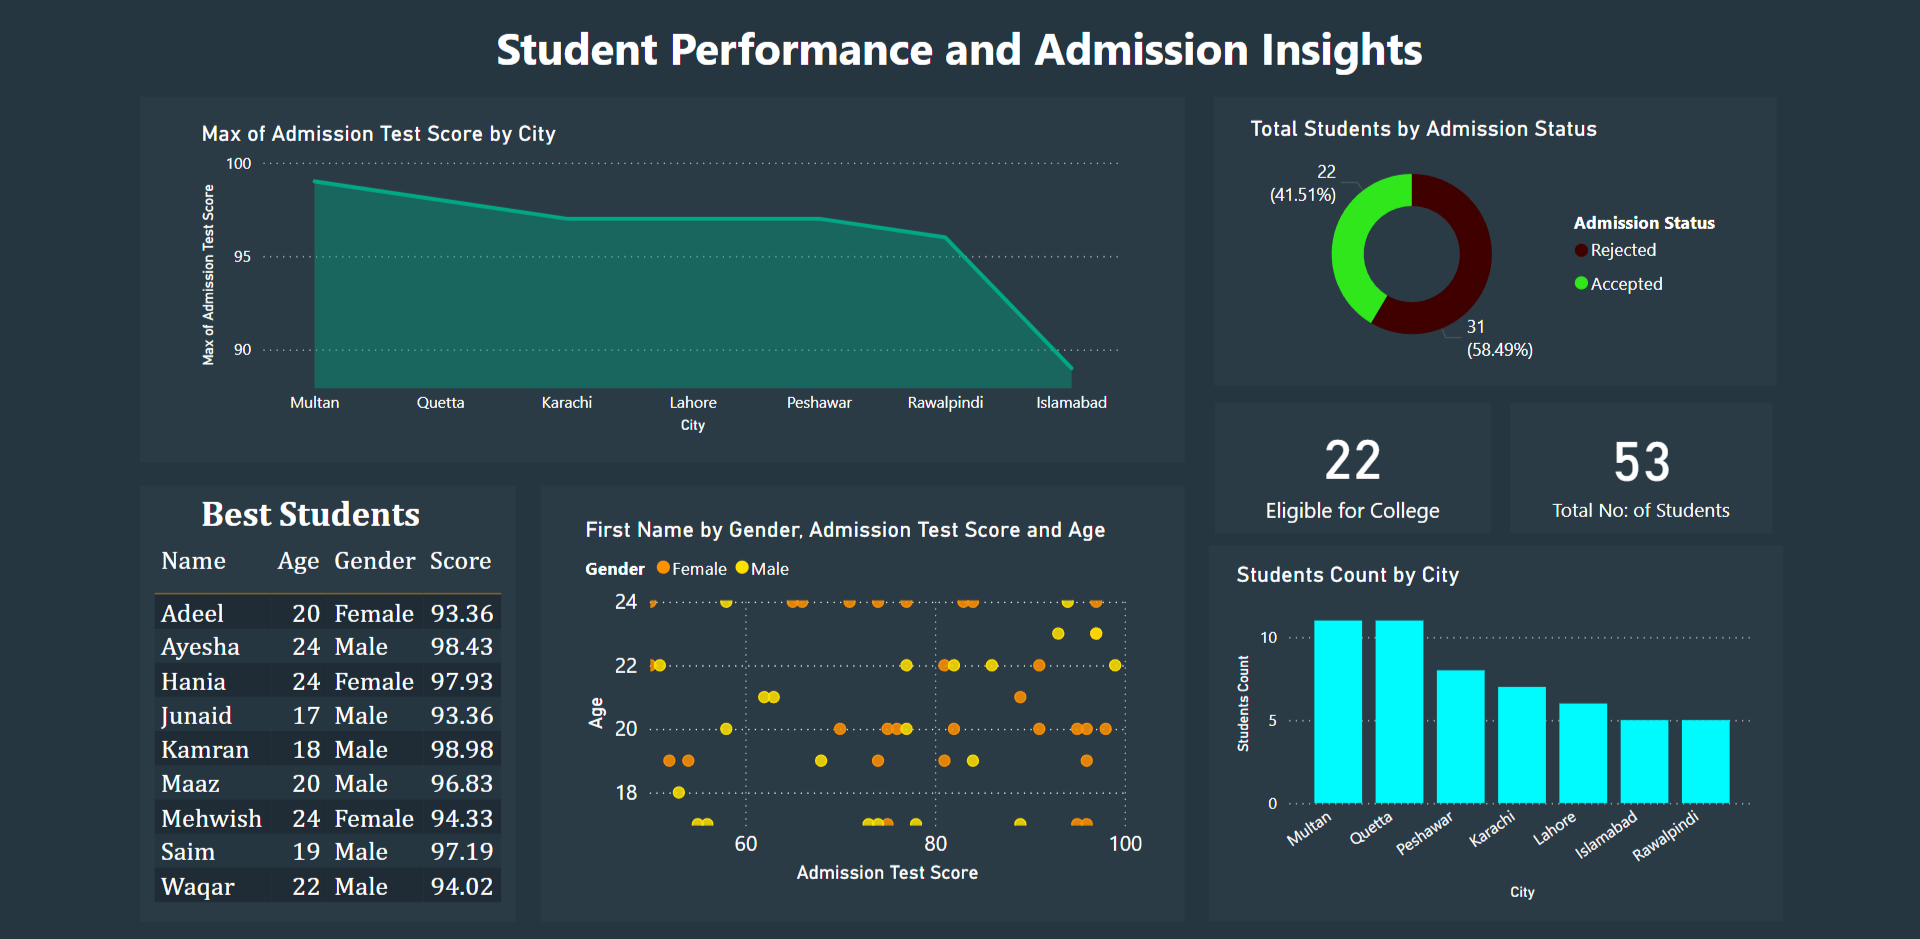

This screenshot's page, from the dashboard's own definition file:
{"tool":"powerbi","page":{"name":"Page 1","canvas":[1280,720],"ordinal":0},"visuals":[{"type":"shape","box":[829.7,418,437.9,286.1],"z":0},{"type":"columnChart","fields":{"Category":["student_admission_record_dirty.City"],"Y":["CountNonNull(student_admission_record_dirty.Name)"]},"box":[845.9,429.2,405.5,263.7],"z":1000},{"type":"shape","box":[14.9,75.9,796.1,278.6],"z":2000},{"type":"shape","box":[833.5,75.9,429.2,220.2],"z":3000},{"type":"card","fields":{"Values":["CountNonNull(student_admission_record_dirty.Name)"]},"box":[1058.6,309.7,200.3,99.5],"z":4000},{"type":"donutChart","fields":{"Category":["student_admission_record_dirty.Admission Status"],"Y":["CountNonNull(student_admission_record_dirty.Name)"]},"box":[855.8,89.6,379.4,194.1],"z":5000},{"type":"areaChart","fields":{"Category":["student_admission_record_dirty.City"],"Y":["Max(student_admission_record_dirty.Admission Test Score)"]},"box":[57.2,93.3,711.5,243.8],"z":6000},{"type":"card","fields":{"Values":["student_admission_record_dirty.Count of Admission Status for Accepted"]},"box":[834.7,309.7,210.2,99.5],"z":7000},{"type":"shape","box":[320.9,371.9,490.1,332.1],"z":8000},{"type":"shape","box":[14.9,371.9,286.1,332.1],"z":9000},{"type":"scatterChart","fields":{"Y":["student_admission_record_dirty.Age"],"X":["student_admission_record_dirty.Admission Test Score"],"Series":["student_admission_record_dirty.Gender"]},"box":[349.6,395.6,434.1,284.9],"z":10000},{"type":"tableEx","fields":{"Values":["student_admission_record_dirty.Name","student_admission_record_dirty.Age","student_admission_record_dirty.Gender","Sum(student_admission_record_dirty.High School Percentage)"]},"box":[19.9,410.5,281.1,293.6],"z":11000},{"type":"textbox","box":[43.5,371.9,202.8,46],"z":12000},{"type":"shape","box":[221.4,0,837.2,75.9],"z":12001}]}

Visuals, with their boxes in screenshot pixels (x1, y1, x2, y2):
shape: <bbox>1388, 498, 1919, 880</bbox>
columnChart - student_admission_record_dirty.City x CountNonNull(student_admission_record_dirty.Name): <bbox>1409, 513, 1919, 865</bbox>
shape: <bbox>300, 41, 1363, 413</bbox>
shape: <bbox>1393, 41, 1919, 335</bbox>
card - CountNonNull(student_admission_record_dirty.Name): <bbox>1693, 353, 1919, 486</bbox>
donutChart - student_admission_record_dirty.Admission Status x CountNonNull(student_admission_record_dirty.Name): <bbox>1422, 60, 1919, 319</bbox>
areaChart - student_admission_record_dirty.City x Max(student_admission_record_dirty.Admission Test Score): <bbox>356, 65, 1306, 390</bbox>
card - student_admission_record_dirty.Count of Admission Status for Accepted: <bbox>1394, 353, 1675, 486</bbox>
shape: <bbox>708, 436, 1363, 880</bbox>
shape: <bbox>300, 436, 682, 880</bbox>
scatterChart - student_admission_record_dirty.Age x student_admission_record_dirty.Admission Test Score: <bbox>747, 468, 1326, 848</bbox>
tableEx - student_admission_record_dirty.Name x student_admission_record_dirty.Age: <bbox>307, 488, 682, 880</bbox>
textbox: <bbox>338, 436, 609, 498</bbox>
shape: <bbox>576, 0, 1693, 41</bbox>
